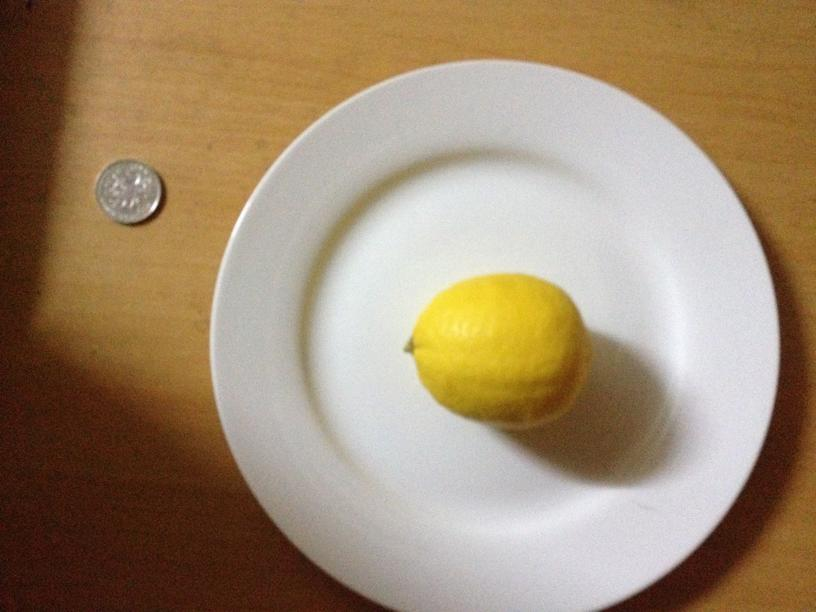coin: (93, 158, 162, 224)
lemon: (412, 274, 589, 425)
